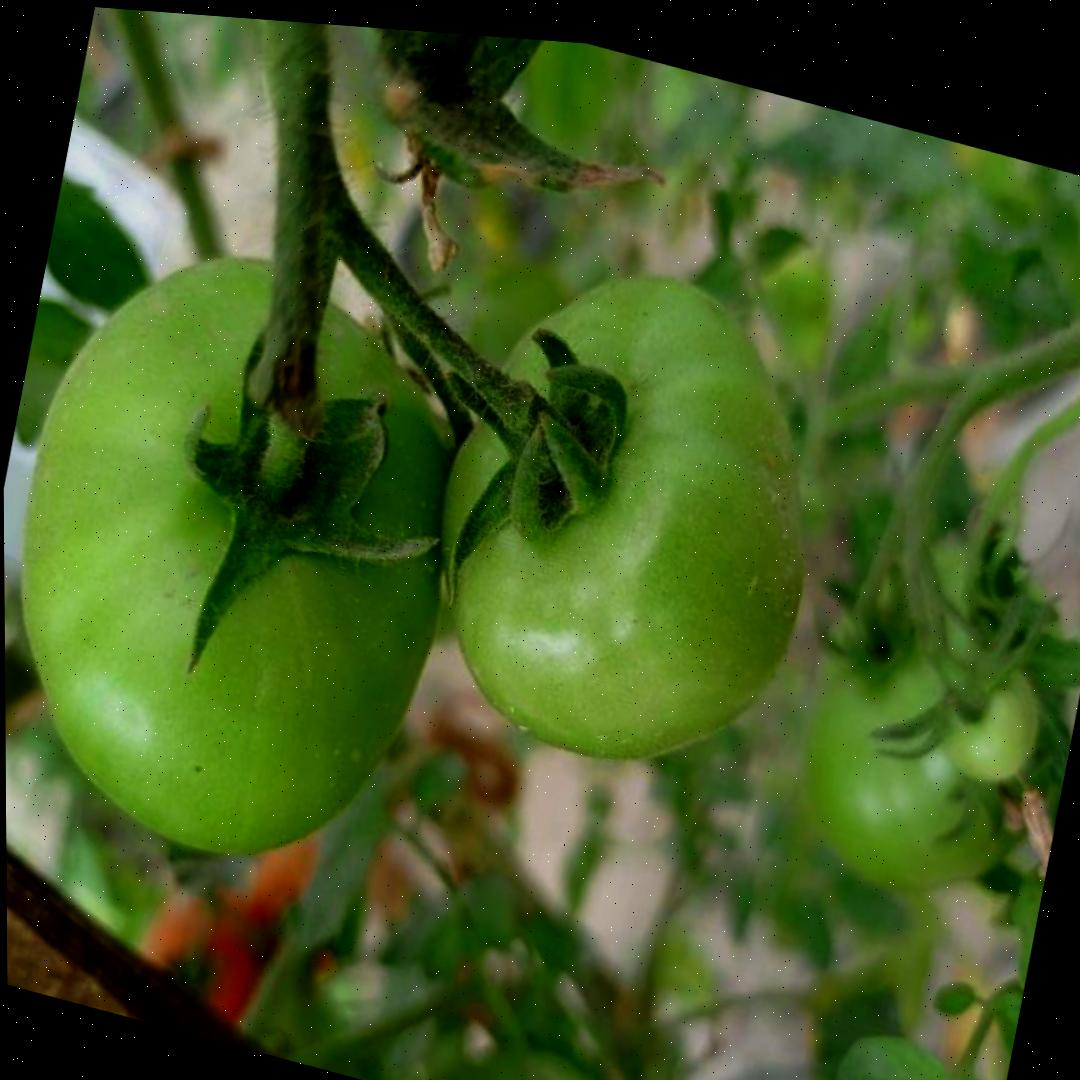mentah: (1, 199, 499, 908), (400, 218, 856, 810)
